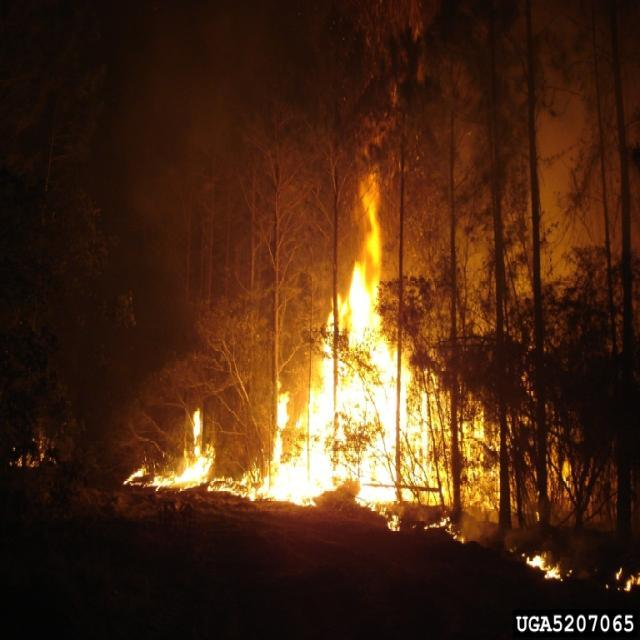Fire: (124, 164, 500, 548)
